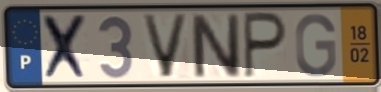3: (96, 12, 136, 81)
G: (293, 11, 338, 79)
N: (187, 12, 244, 80)
P: (242, 10, 290, 82)
V: (138, 13, 191, 81)
X: (40, 12, 92, 82)
